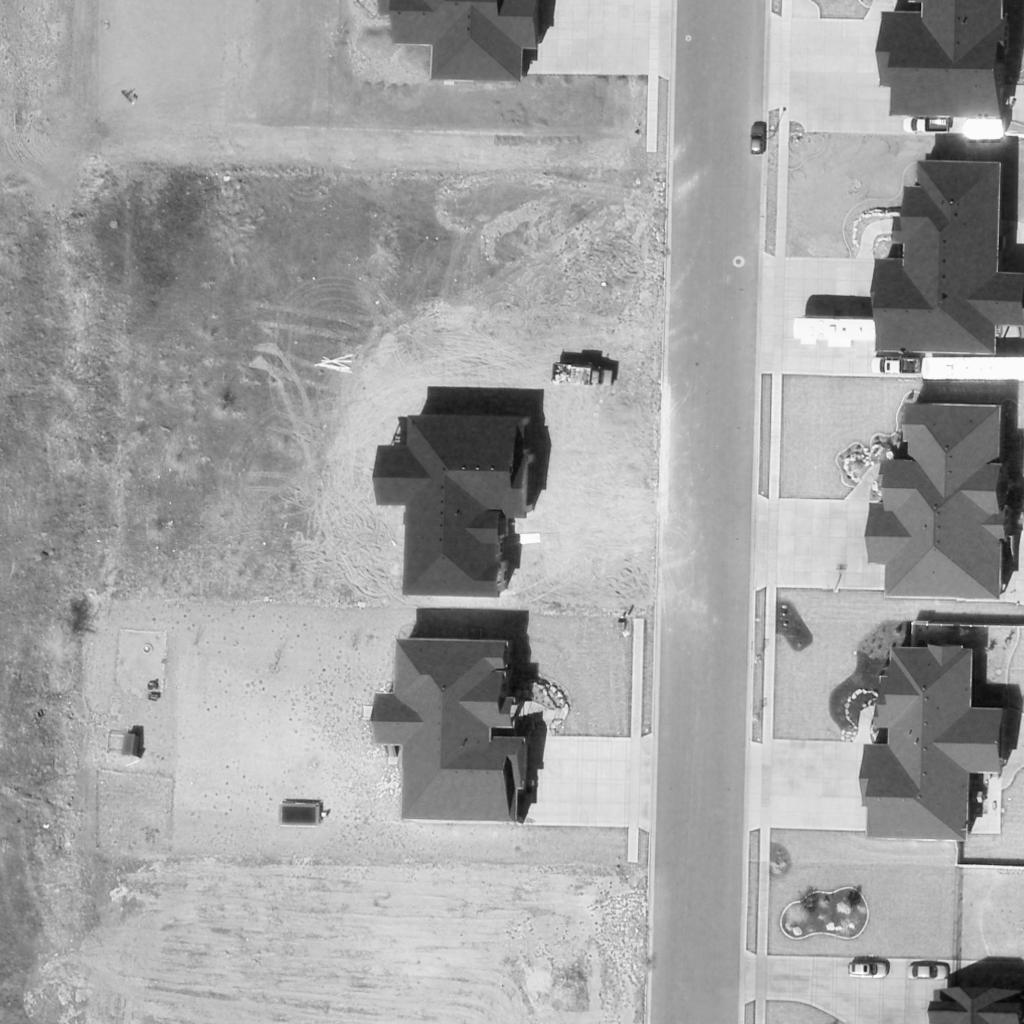vehicle: (922, 359, 1022, 381), (549, 362, 619, 390), (961, 117, 1009, 141), (901, 116, 959, 134), (874, 354, 924, 374), (843, 961, 893, 981), (907, 963, 951, 983), (748, 122, 770, 158)
